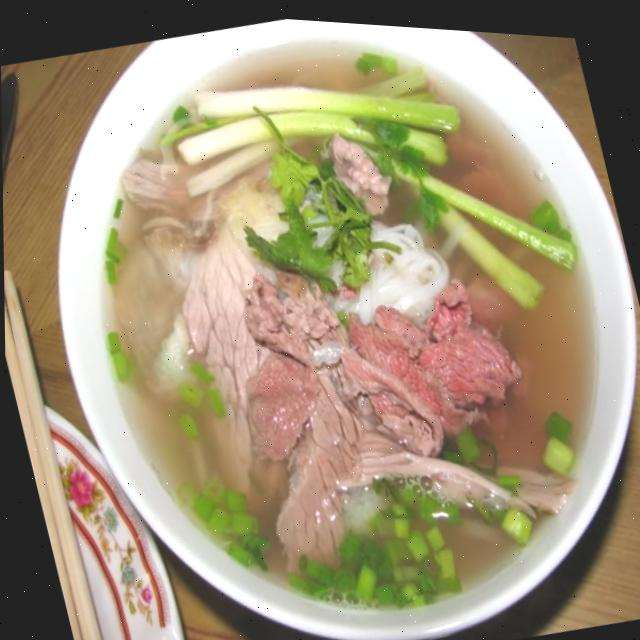面条主食: (14, 1, 640, 640)
